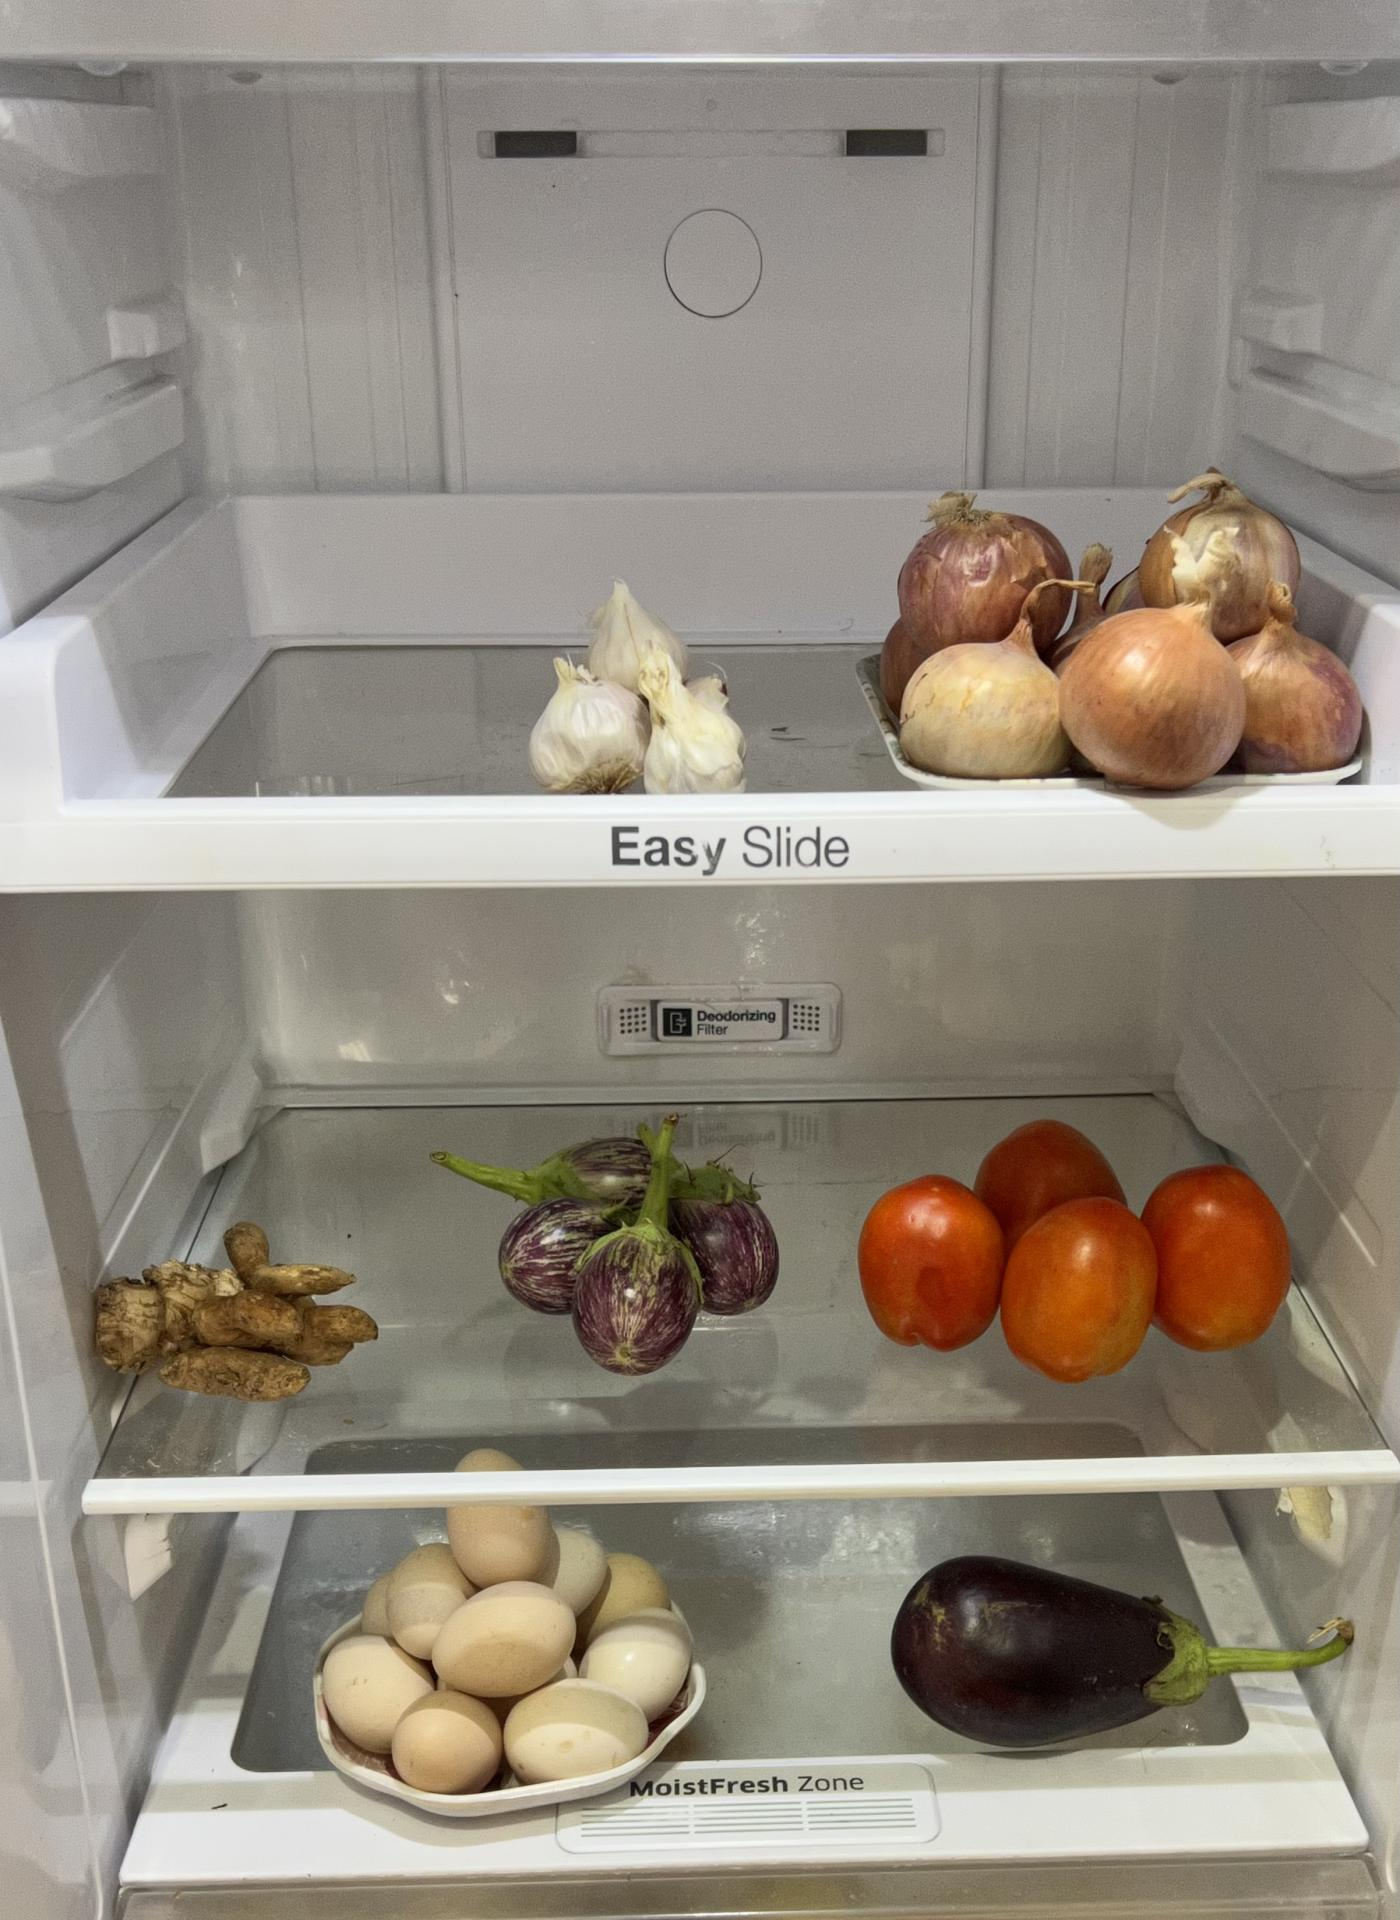egg: (312, 1504, 696, 1790)
garlic: (532, 581, 750, 805)
ginger: (82, 1212, 380, 1407)
onion: (871, 486, 1366, 786)
tomato: (857, 1112, 1291, 1385)
